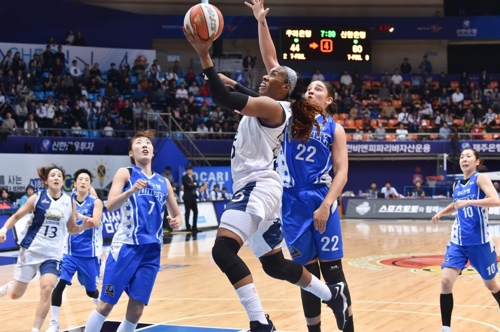defense: (277, 24, 366, 331)
run: (2, 157, 78, 331), (437, 140, 500, 332)
shoot: (178, 1, 293, 325)
stand: (105, 127, 179, 332)
